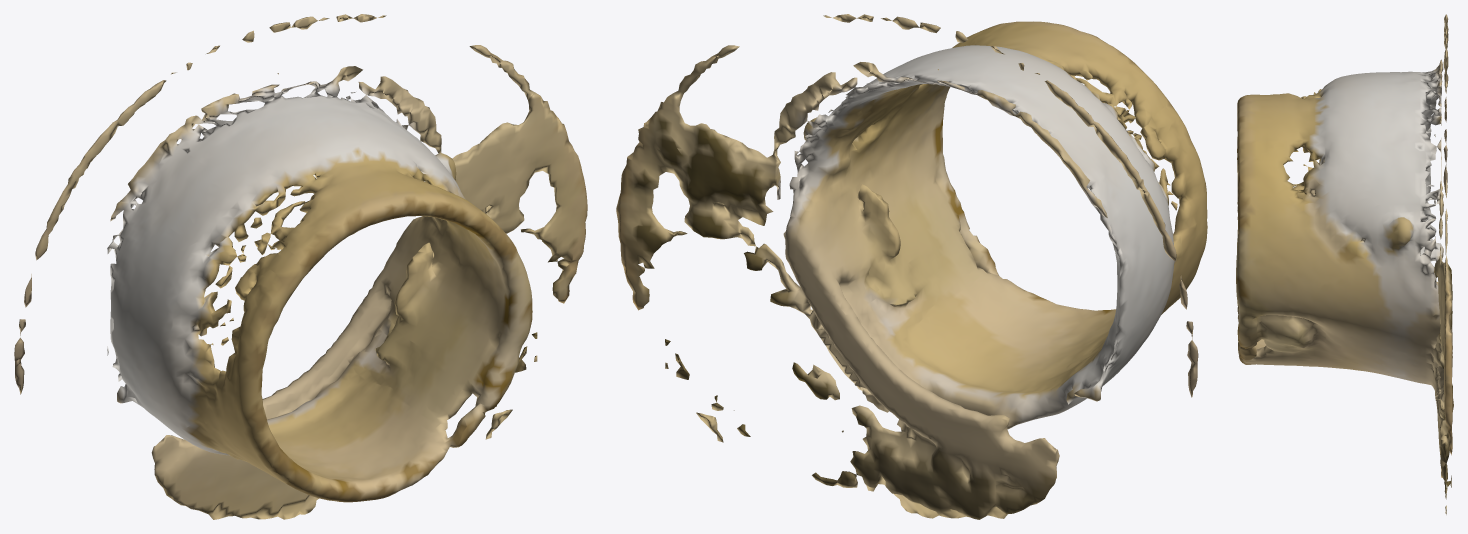
File: hat.glb
3 views of the same model, side by side, from view 1: azimuth 30°, elevation 25°; view 2: azimuth 150°, elevation 25°; view 3: azimuth 270°, elevation 25° (orthographic). The views are drawn at different scales.
Size of the model in its own units: 0.9996 by 0.8222 by 0.3896.
